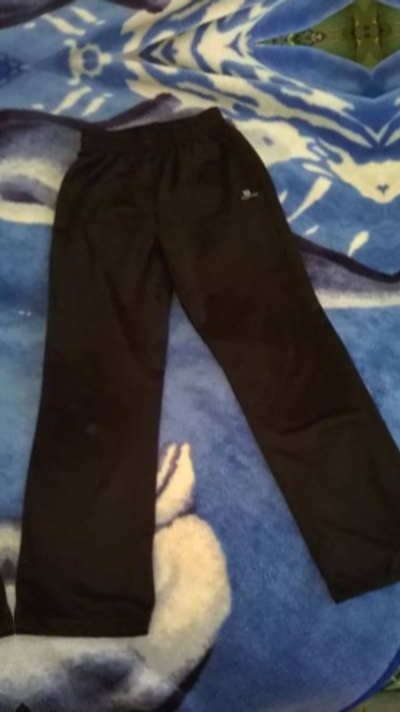Pants: (0, 80, 400, 654), (379, 38, 400, 612), (0, 0, 355, 24), (0, 123, 2, 697)
